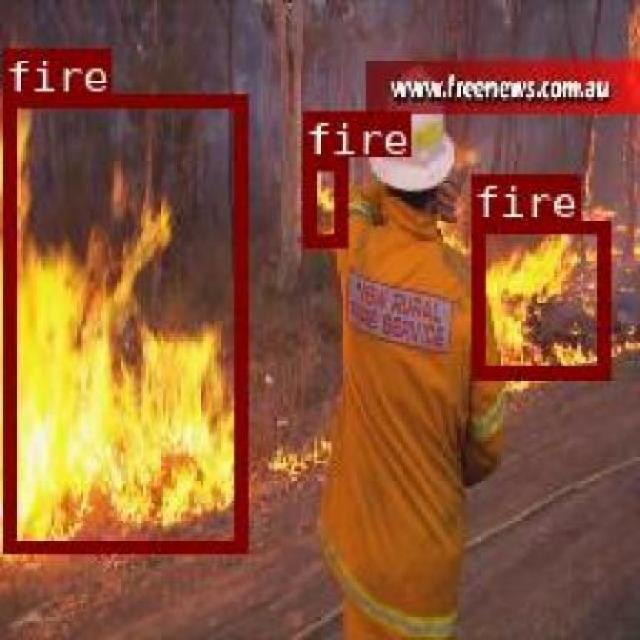Fire: (1, 92, 246, 550), (469, 219, 608, 375), (300, 155, 345, 243)
